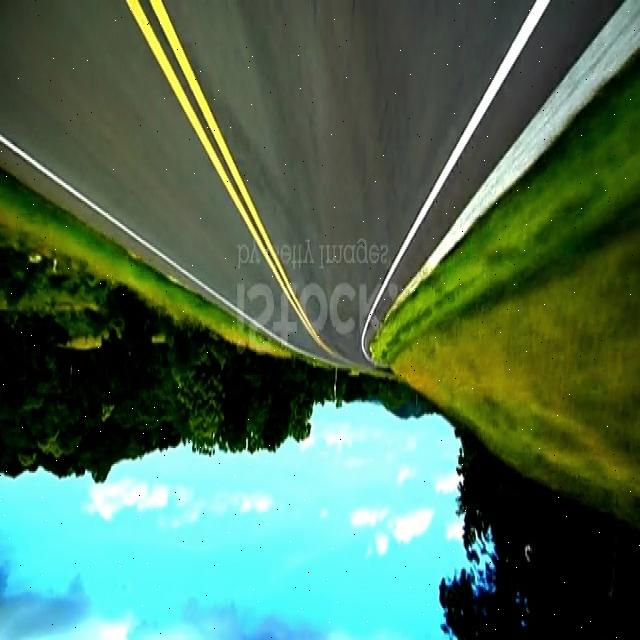lane: (129, 1, 339, 356), (361, 1, 549, 360), (0, 134, 240, 315)
road: (0, 2, 618, 369), (1, 6, 331, 360)
